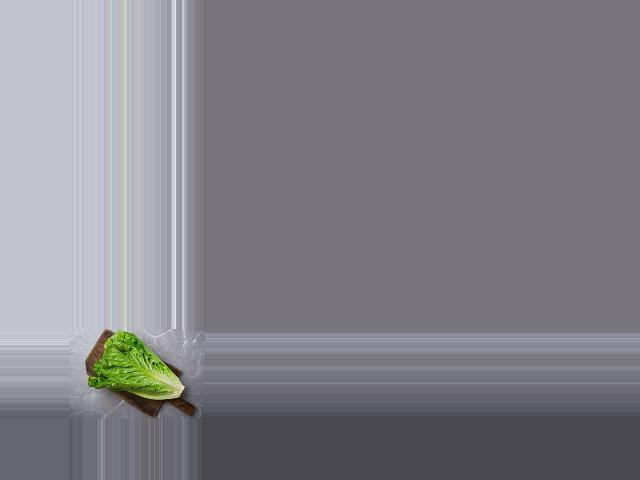lettuce: (88, 331, 188, 410)
